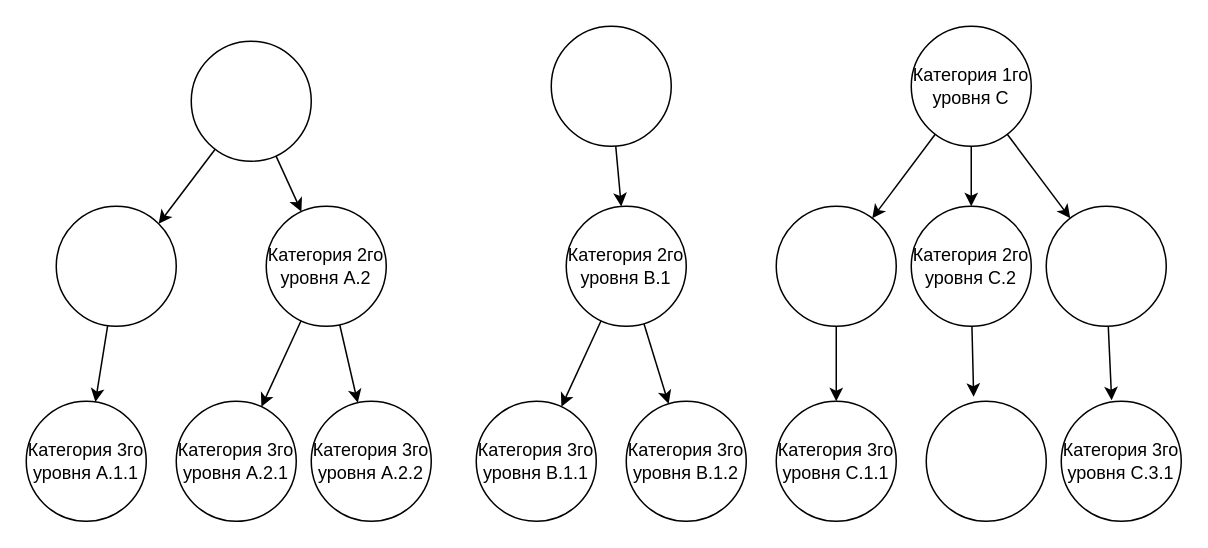
Some shapes in this 1208 by 548 pixel diagram are drawn without their labels. Each missing label, with the centre of its shape:
"Категория 1го уровня B" belongs at point 610,85.
"Категория 1го уровня А" belongs at point 250,100.
"Категория 2го уровня А.1" belongs at point 115,265.
"Категория 2го уровня С.1" belongs at point 835,265.
"Категория 2го уровня С.3" belongs at point 1105,265.
"Категория 3го уровня С.2.1" belongs at point 985,460.
